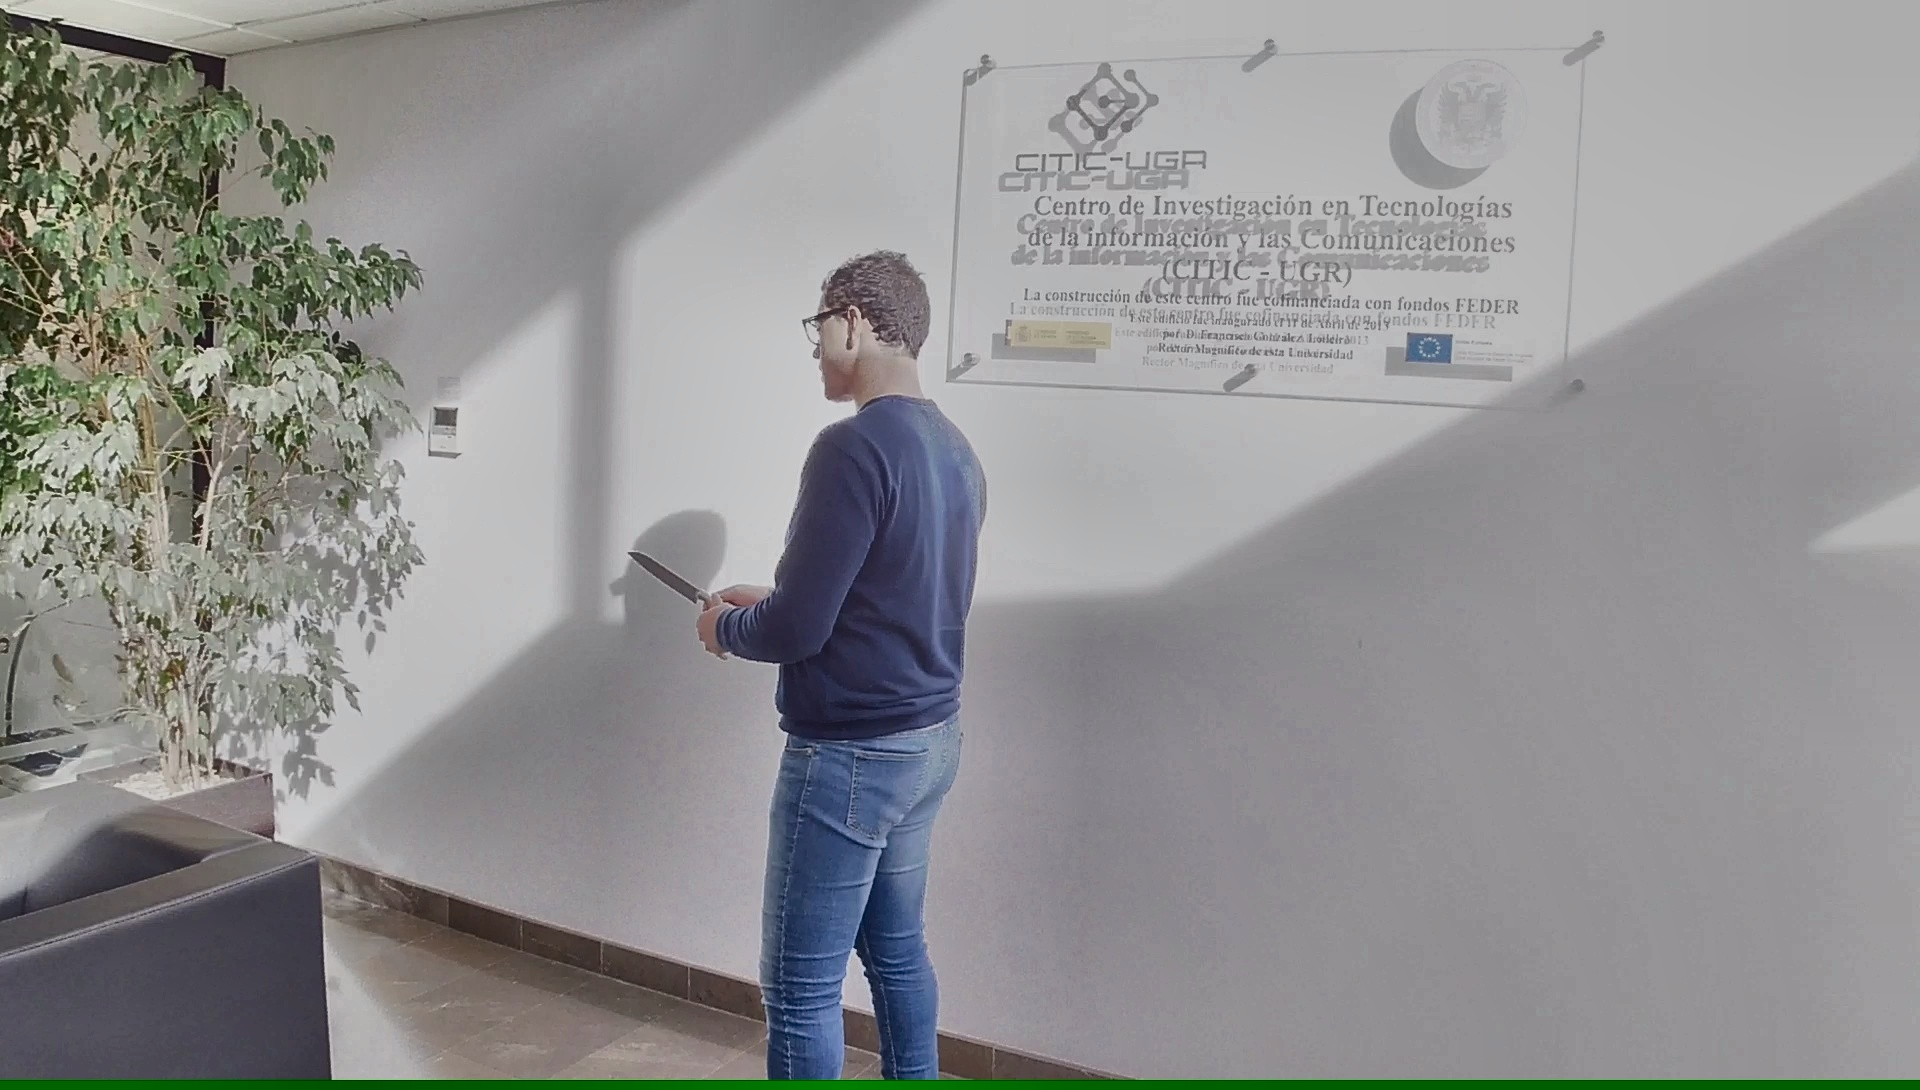knife: (621, 542, 731, 616)
